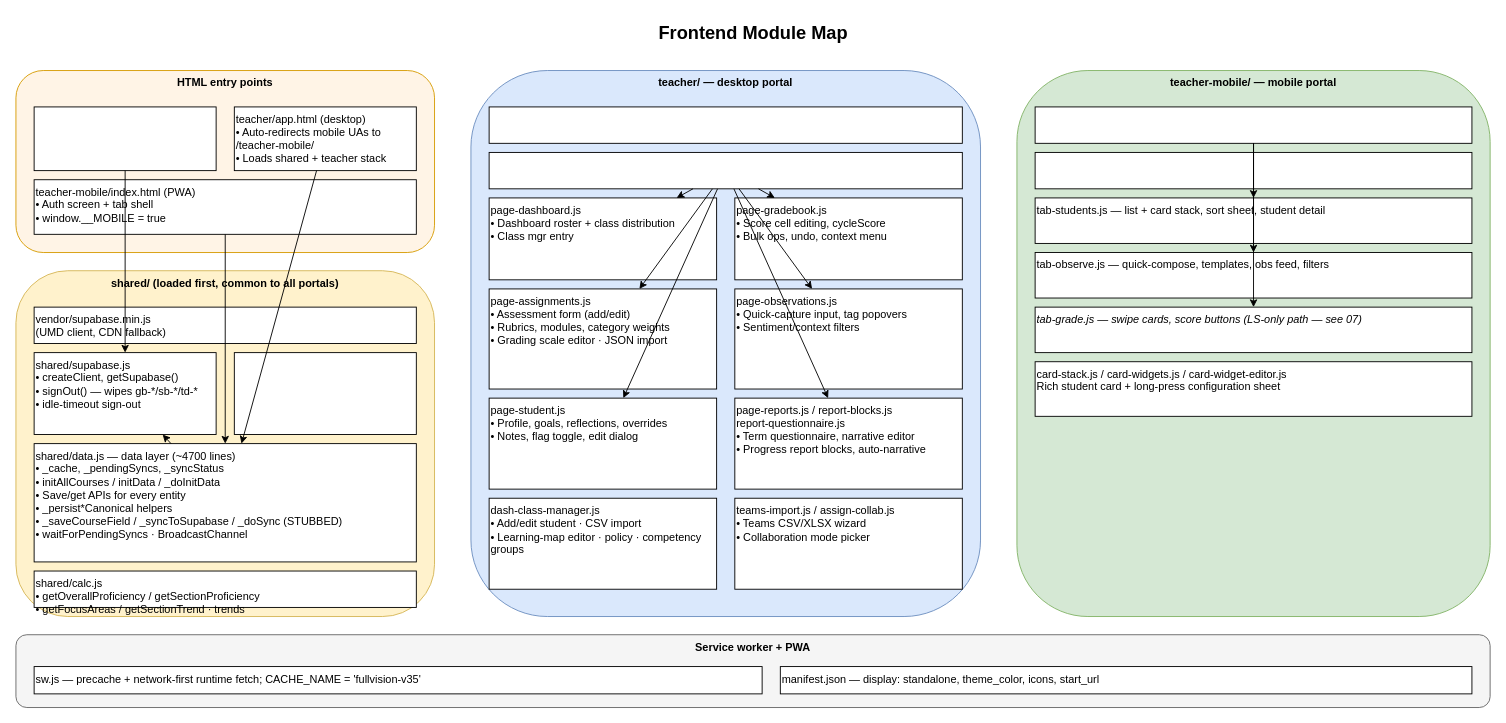
This 1506x723 diagram has some shape labels left out. The shapes that lost their labels are listed below. From the top down, each one's centre as x and y in pixels, then its label:
At pixel 124 138: "login.html • login.css / login-auth.js • window.__ENV injected at edge".
At pixel 725 124: "ui.js — top-bar, nav, toasts, user menu, signOut binding".
At pixel 1253 124: "shell.js — boot, tab bar, nav stacks, settings sheet, sign-out".
At pixel 725 170: "router.js — path router, boot sequence, global auth boundary".
At pixel 1253 170: "components.js — iOS-style primitives (sheets, toasts, nav bar, avatar)".
At pixel 324 393: "shared/constants.js • BC_DESIGNATIONS · OBS_DIMS • SUBJECT_COLOURS · PROF_LABELS".
